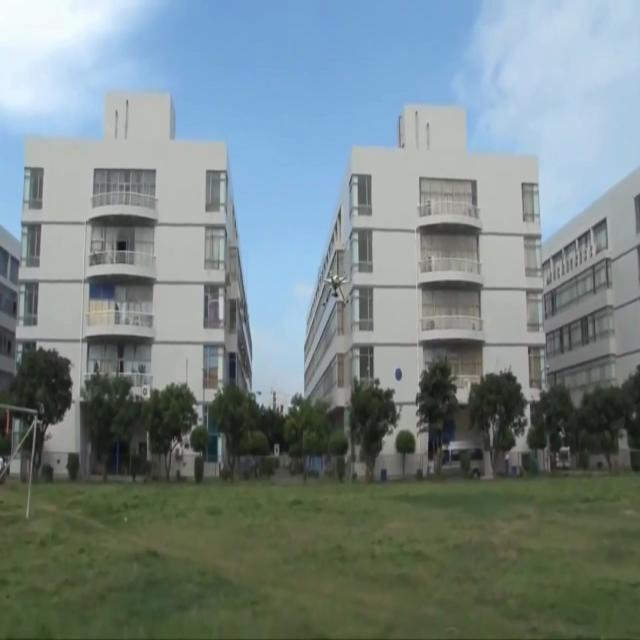drone: (322, 271, 348, 302)
